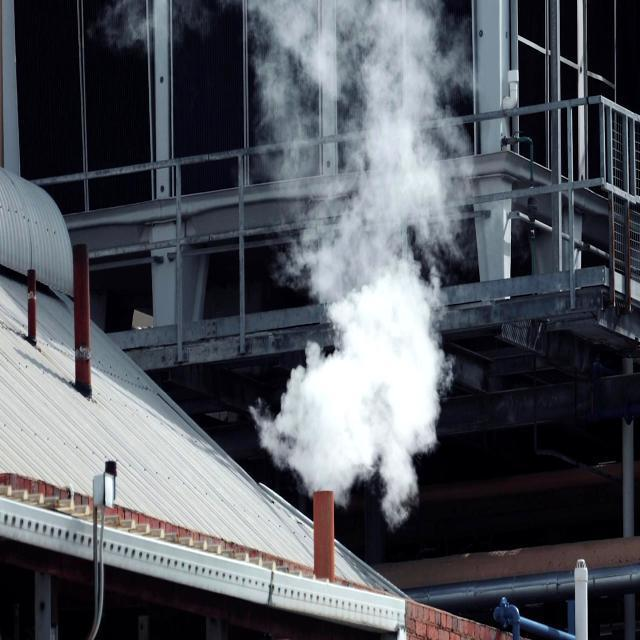Smoke: (236, 0, 487, 511)
